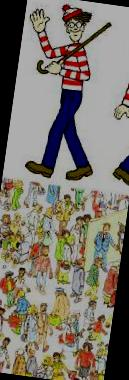waldo: (56, 2, 91, 44)
